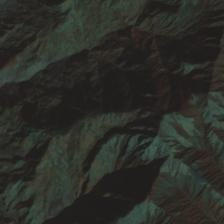landslides: (158, 122, 170, 132)
